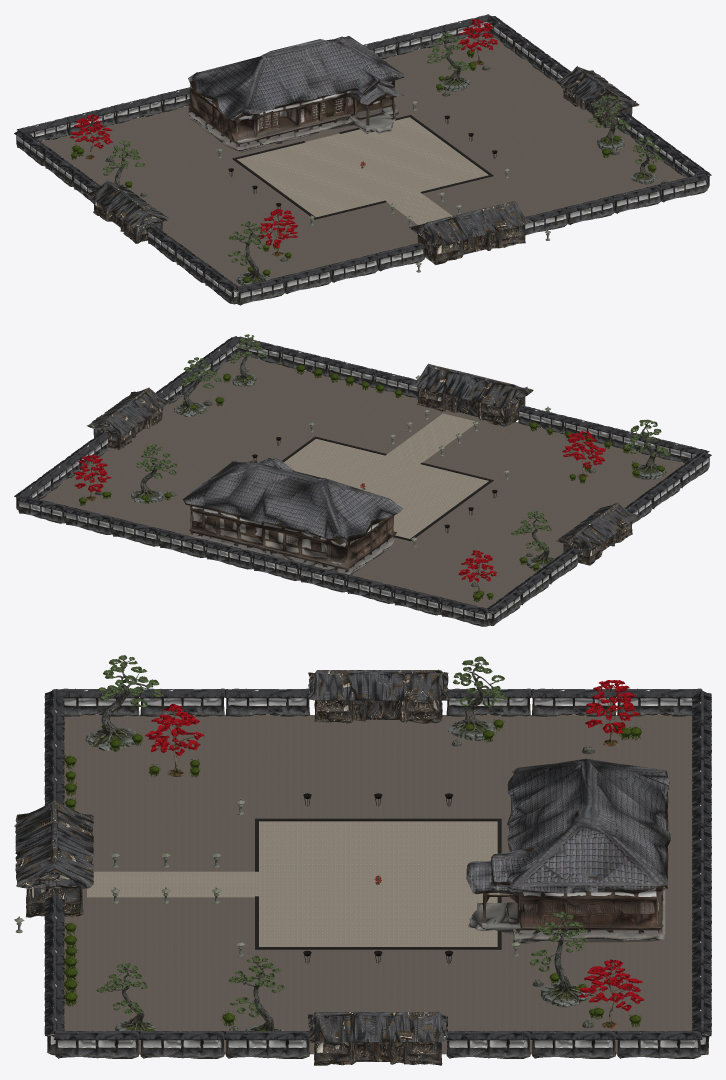
The model's file is fortress.glb.
3 renders of one model, top to bottom at view 1: azimuth 30°, elevation 25°; view 2: azimuth 150°, elevation 25°; view 3: azimuth 270°, elevation 25°, orthographic. The views are drawn at different scales.
Parts seen in each view (by area): view 1: m1, m35, m36, m32, m33, m34, m37, m96, m92, m95, m2, m3 (+30 smaller); view 2: m1, m35, m36, m32, m34, m33, m37, m92, m96, m95, m144, m94 (+31 smaller); view 3: m1, m35, m36, m32, m33, m34, m37, m92, m27, m31, m26, m23 (+34 smaller).
Part boxes in pixels (box(x1,y1,x2,y2)): m1: box(41, 34, 686, 286); m35: box(188, 36, 404, 152); m36: box(237, 117, 488, 217); m32: box(409, 200, 532, 264); m33: box(86, 180, 168, 243); m34: box(557, 66, 639, 127); m37: box(386, 193, 451, 224); m96: box(427, 33, 470, 91); m92: box(228, 221, 270, 285); m95: box(588, 95, 630, 150); m2: box(236, 277, 285, 305); m3: box(281, 265, 332, 293); m1: box(40, 355, 684, 608); m35: box(183, 457, 402, 575); m36: box(284, 438, 488, 538); m32: box(410, 363, 533, 426); m34: box(87, 387, 169, 449); m33: box(556, 502, 638, 565); m37: box(386, 413, 477, 463); m92: box(624, 419, 669, 479); m96: box(131, 444, 177, 503); m95: box(173, 357, 221, 417); m144: box(562, 431, 605, 478); m94: box(511, 511, 554, 569); m1: box(63, 715, 692, 1054); m35: box(466, 758, 670, 943); m36: box(257, 821, 499, 946); m32: box(15, 800, 93, 917); m33: box(308, 669, 448, 723); m34: box(308, 1011, 448, 1065); m37: box(87, 871, 256, 897); m92: box(85, 655, 163, 750); m27: box(531, 1030, 616, 1058); m31: box(54, 1030, 139, 1058); m26: box(616, 1030, 702, 1058); m23: box(224, 688, 309, 716).
Size of what is drawn, in the model's own units: 86.4 by 11.52 by 69.01.
28 materials, 14 textured.
